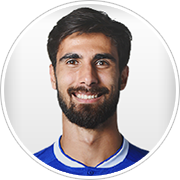face: (42, 35, 132, 120)
